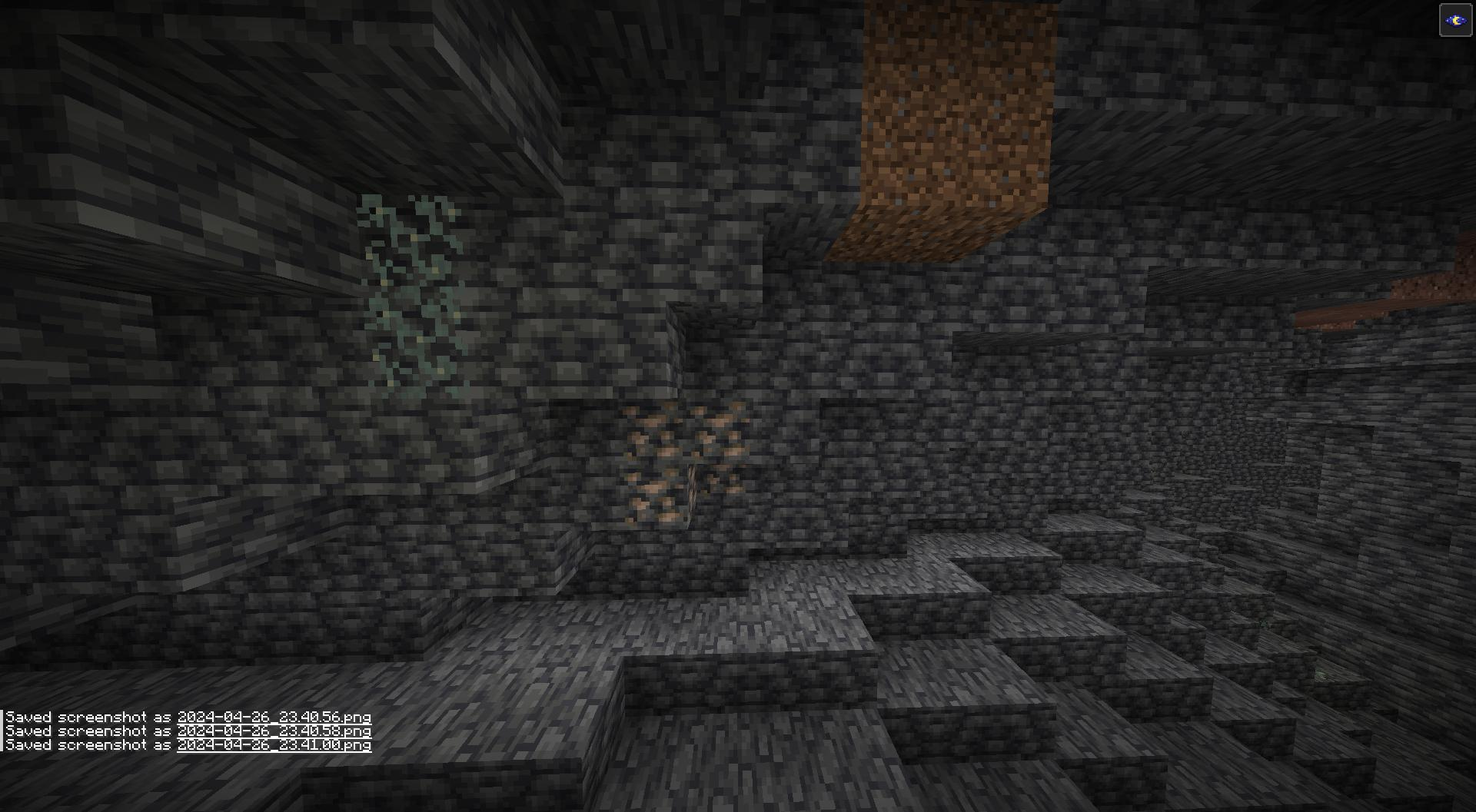iron ore: (682, 396, 749, 459), (620, 395, 682, 460), (625, 464, 684, 528), (686, 459, 748, 502)
